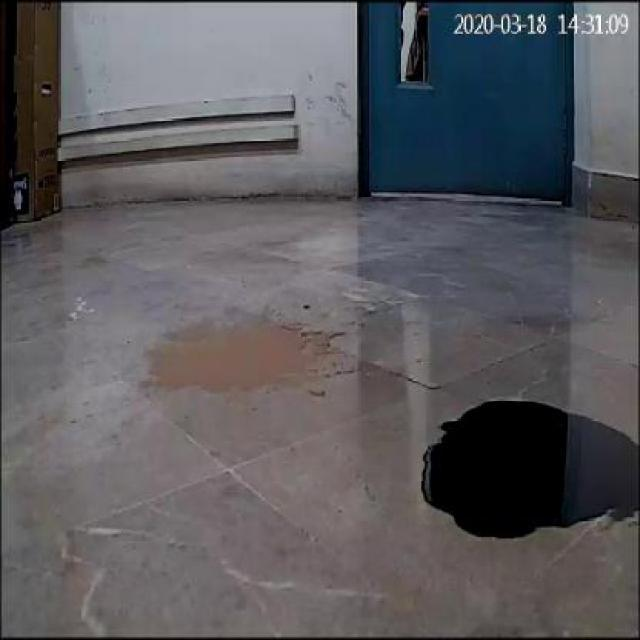spill: (416, 394, 632, 542)
